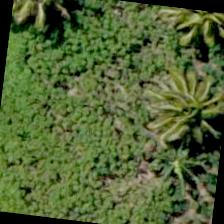Kelapa_Sawit: (138, 57, 223, 157), (153, 5, 223, 71)
